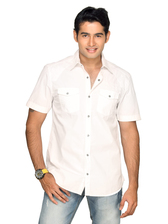clothoes: (19, 52, 141, 199)
watch: (31, 166, 55, 186)
